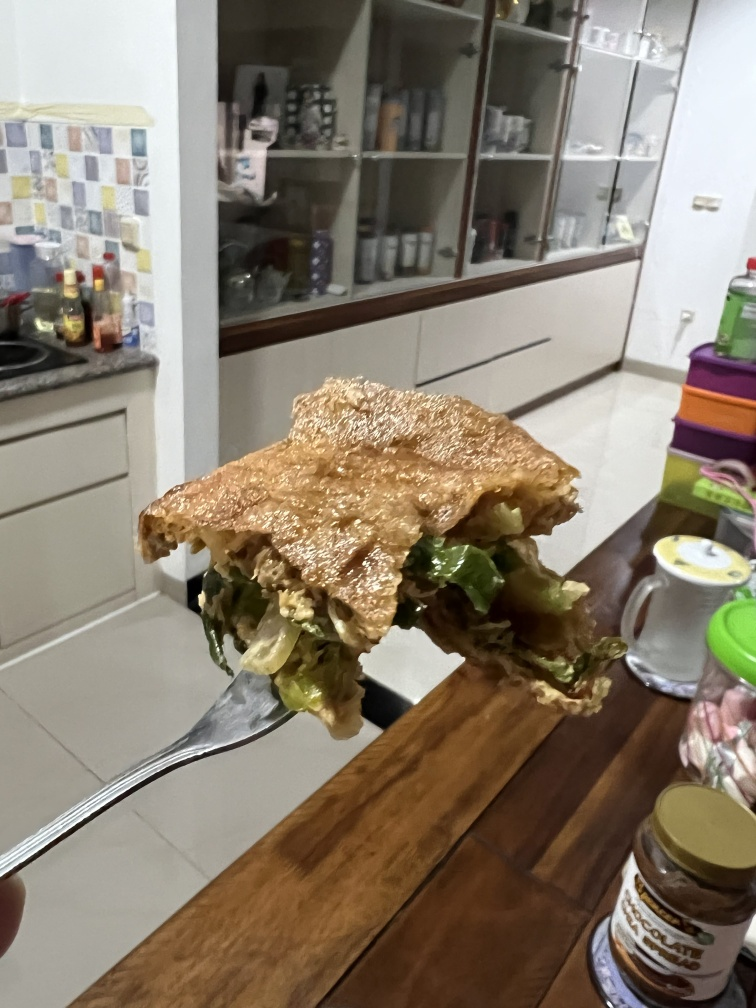martabak telor: (152, 313, 619, 747)
